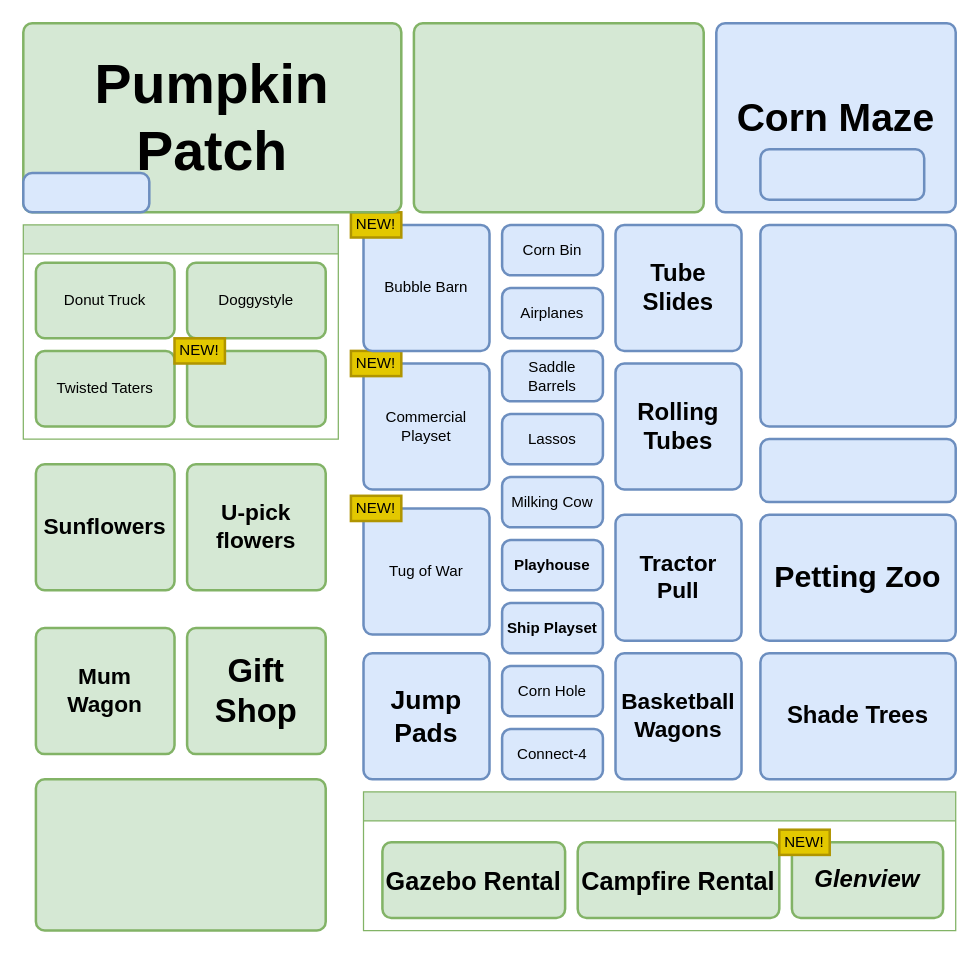
Some shapes in this 978 by 953 pixel diagram are drawn without their labels. Each missing label, with the box of its shape:
Fire Pits: (759, 437, 956, 503)
Food: (22, 224, 338, 439)
Golden Pumpkin: (21, 171, 150, 213)
Hayrides: (412, 21, 704, 213)
Lemonade: (185, 349, 326, 427)
Maze Game: (759, 147, 925, 200)
Nature Maze: (759, 223, 956, 427)
Reservations: (362, 791, 956, 931)
Vendor Fair / Farm Swap: (34, 777, 326, 931)
